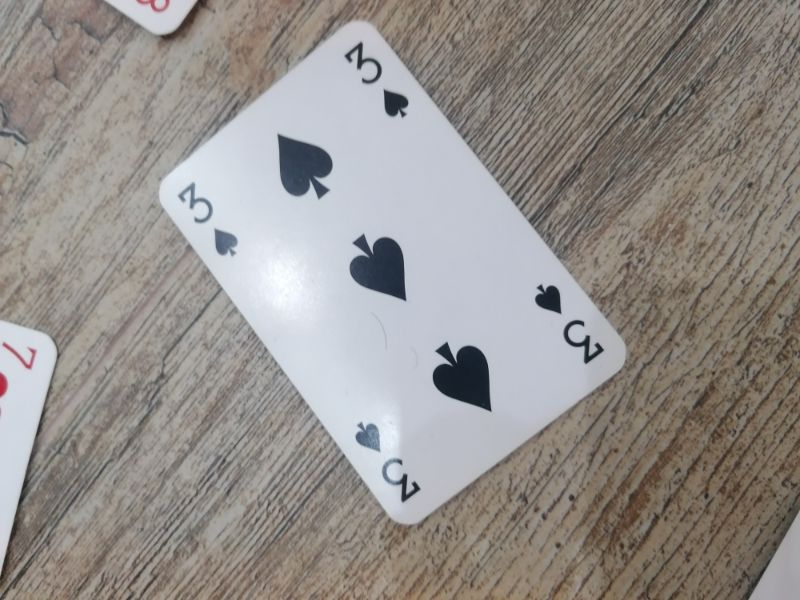3s: (529, 280, 608, 367), (352, 419, 425, 505), (341, 39, 411, 121), (174, 180, 243, 261)
